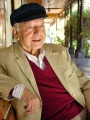male: (8, 9, 49, 54)
